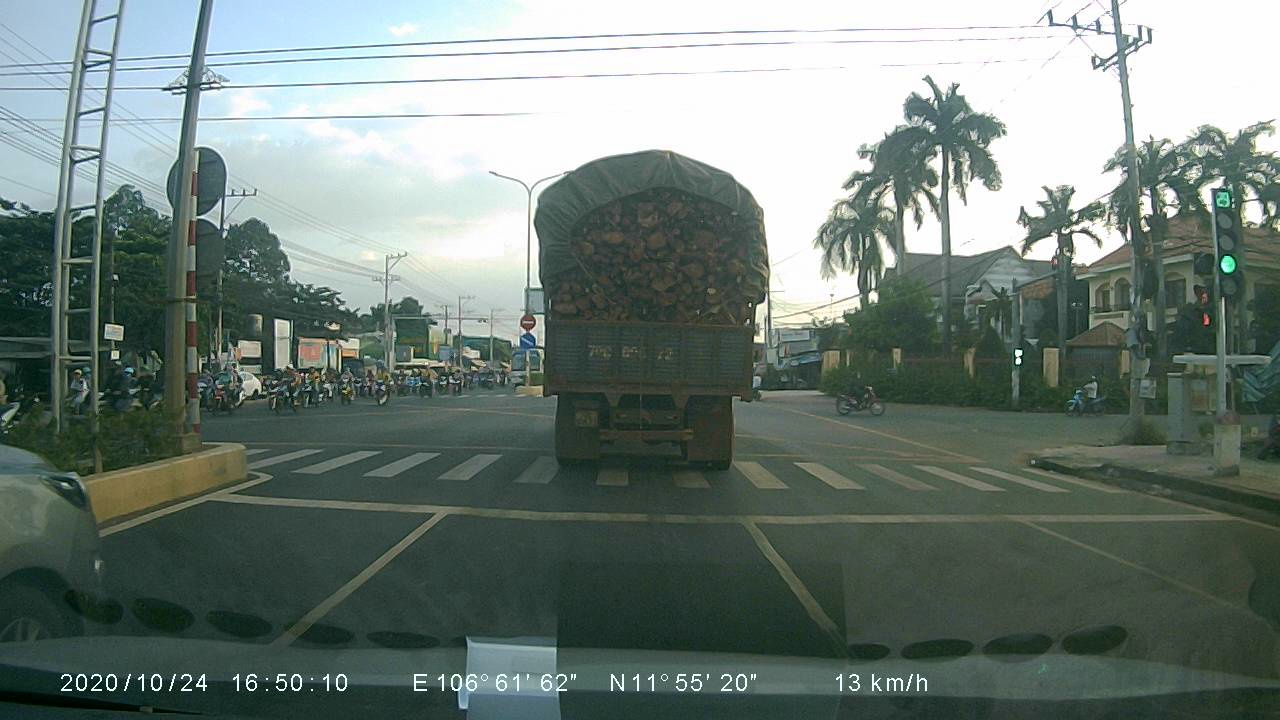Cam di nguoc chieu: (518, 311, 538, 332)
Huong di phai re phai: (516, 332, 537, 351)
